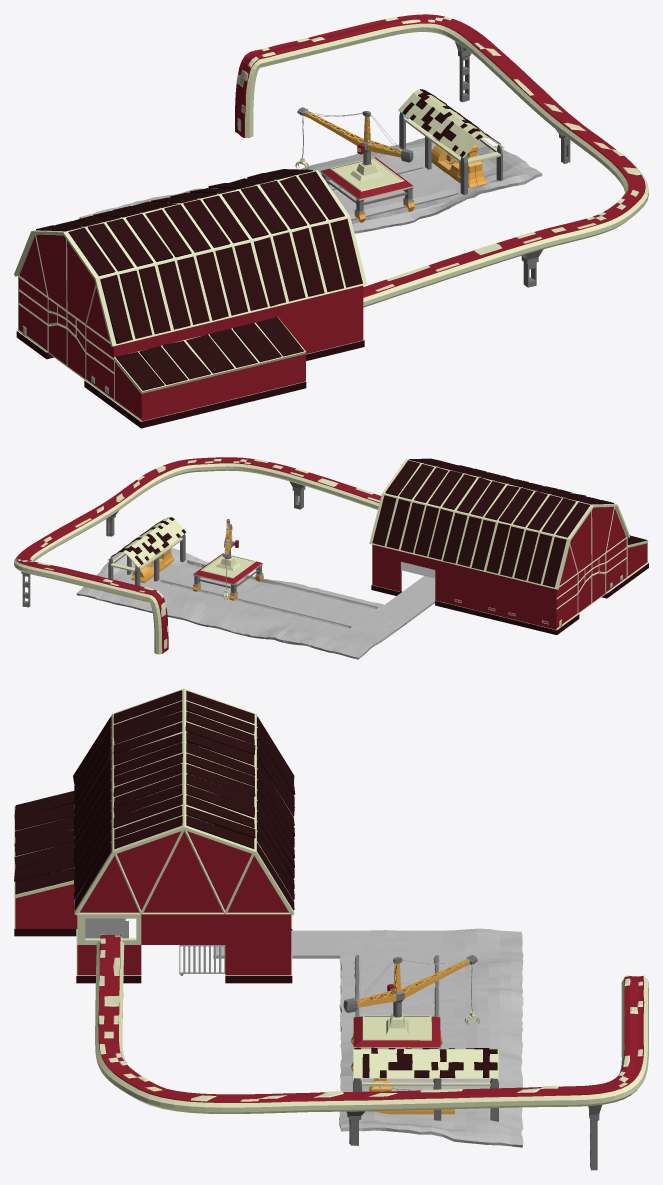
Rendered from StockHouse.fbx.
The picture shows the model from 3 angles, top to bottom: view 1: azimuth 30°, elevation 25°; view 2: azimuth 150°, elevation 25°; view 3: azimuth 270°, elevation 25°; orthographic projection. The views are drawn at different scales.
Parts seen in each view (by area): view 1: StockHouse, Pipes, CrossRoads, Crane, Lumber, Motor, FrontDoorLeft, FrontDoorRight; view 2: StockHouse, CrossRoads, Pipes, Lumber, Crane, Motor, FrontDoorRight, FrontDoorLeft; view 3: StockHouse, CrossRoads, Pipes, Lumber, Crane.
Boxes of the visible parts, x1=… form: StockHouse: x1=14, y1=169, x2=367, y2=428; Pipes: x1=235, y1=14, x2=648, y2=307; CrossRoads: x1=79, y1=136, x2=542, y2=233; Crane: x1=295, y1=107, x2=414, y2=222; Lumber: x1=398, y1=89, x2=504, y2=194; Motor: x1=431, y1=142, x2=486, y2=187; FrontDoorLeft: x1=48, y1=324, x2=66, y2=366; FrontDoorRight: x1=67, y1=329, x2=85, y2=379; StockHouse: x1=369, y1=458, x2=648, y2=634; CrossRoads: x1=76, y1=537, x2=435, y2=659; Pipes: x1=14, y1=457, x2=381, y2=654; Lumber: x1=108, y1=517, x2=186, y2=585; Crane: x1=192, y1=519, x2=263, y2=600; Motor: x1=131, y1=546, x2=174, y2=583; FrontDoorRight: x1=592, y1=572, x2=605, y2=603; FrontDoorLeft: x1=578, y1=576, x2=591, y2=613; StockHouse: x1=14, y1=688, x2=295, y2=983; CrossRoads: x1=213, y1=928, x2=523, y2=1147; Pipes: x1=95, y1=934, x2=648, y2=1170; Lumber: x1=353, y1=1047, x2=498, y2=1121; Crane: x1=343, y1=955, x2=480, y2=1072.
Size of the model in its own units: 114 by 26.69 by 94.16.
